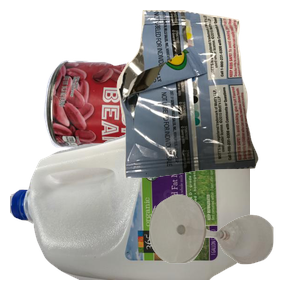glass: (147, 192, 300, 300)
metal: (41, 58, 240, 207)
plastic: (10, 120, 250, 300)
trash: (114, 10, 300, 180)
